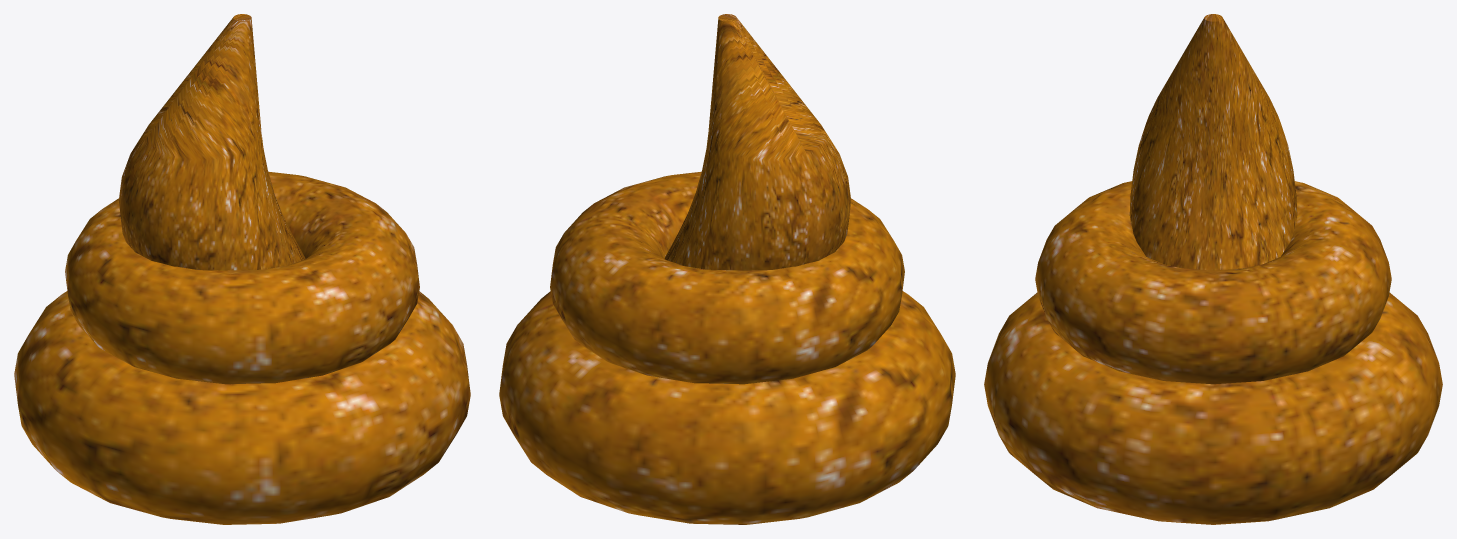
The model's file is shit.fbx.
The picture shows the model from 3 angles, left to right: view 1: azimuth 30°, elevation 25°; view 2: azimuth 150°, elevation 25°; view 3: azimuth 270°, elevation 25°; orthographic projection.
Visible parts, largest first — view 1: pTorus3; view 2: pTorus3; view 3: pTorus3.
Boxes of the visible parts, x1,y1,x2,y2 form: pTorus3: [14, 14, 470, 524]; pTorus3: [499, 14, 955, 524]; pTorus3: [984, 14, 1442, 524].
Size of the model in its own units: 10.56 by 11.07 by 10.56.
